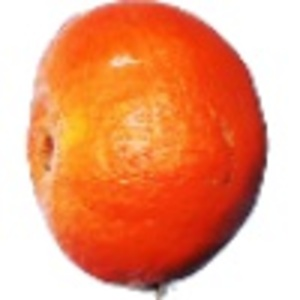tangerina: (22, 1, 271, 300)
